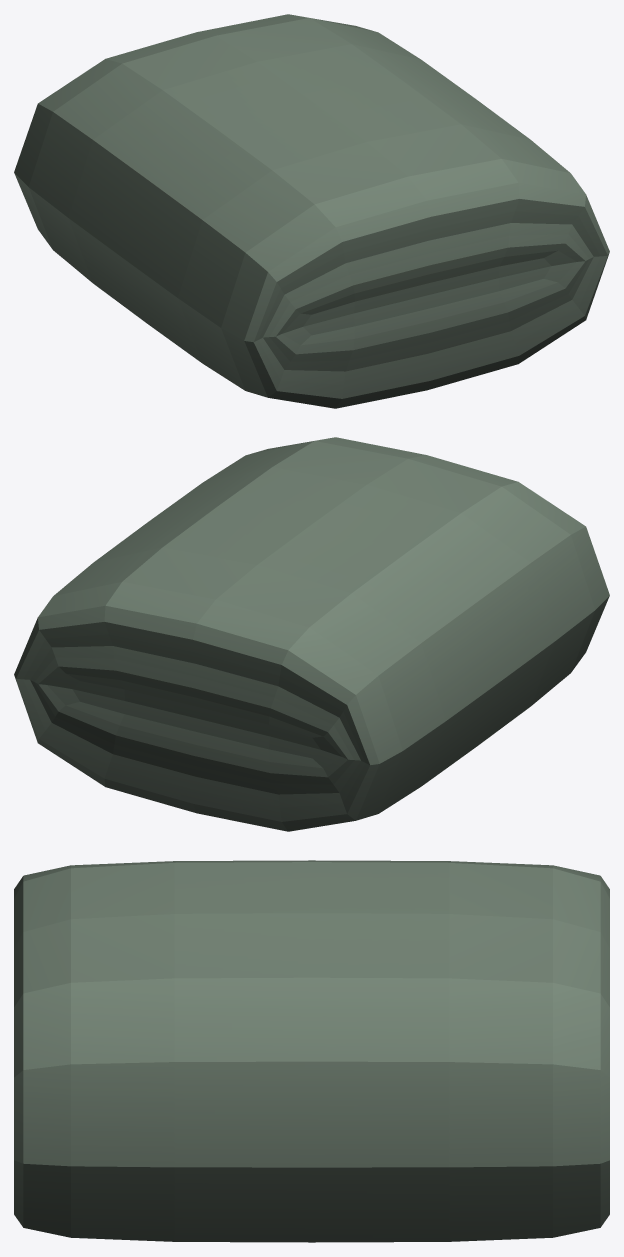
The model's file is Clothes2_C5.fbx.
3 views of the same model, one above another, from view 1: azimuth 30°, elevation 25°; view 2: azimuth 150°, elevation 25°; view 3: azimuth 270°, elevation 25° (orthographic). The views are drawn at different scales.
Parts seen in each view (by area): view 1: Clothes2_C5; view 2: Clothes2_C5; view 3: Clothes2_C5.
Boxes of the visible parts, x1,y1,x2,y2 form: Clothes2_C5: [14, 14, 609, 408]; Clothes2_C5: [14, 437, 609, 831]; Clothes2_C5: [14, 860, 609, 1242].
Bounding box in the file's own units: 21.86 × 12.06 × 23.8.
